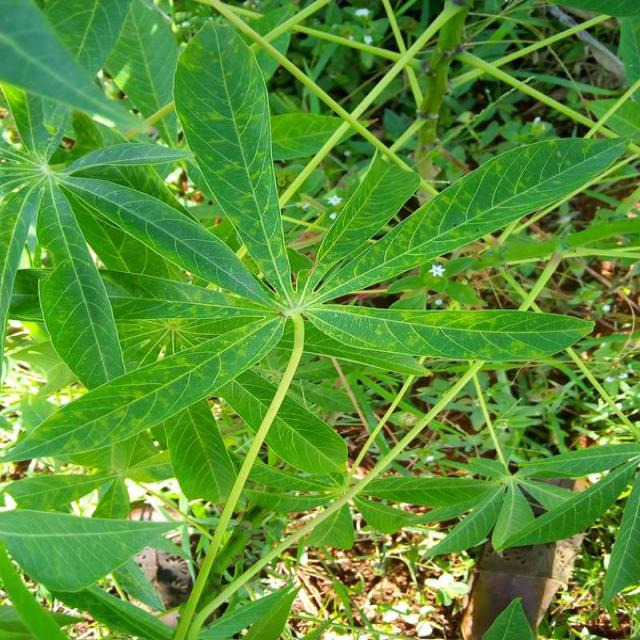cassava leaf: (2, 11, 623, 514), (170, 17, 294, 305)
